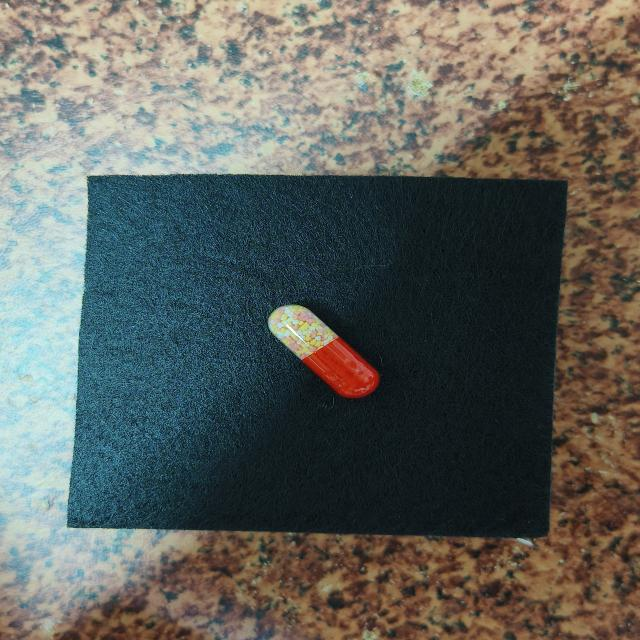Intact Capsule: (268, 304, 380, 398)
